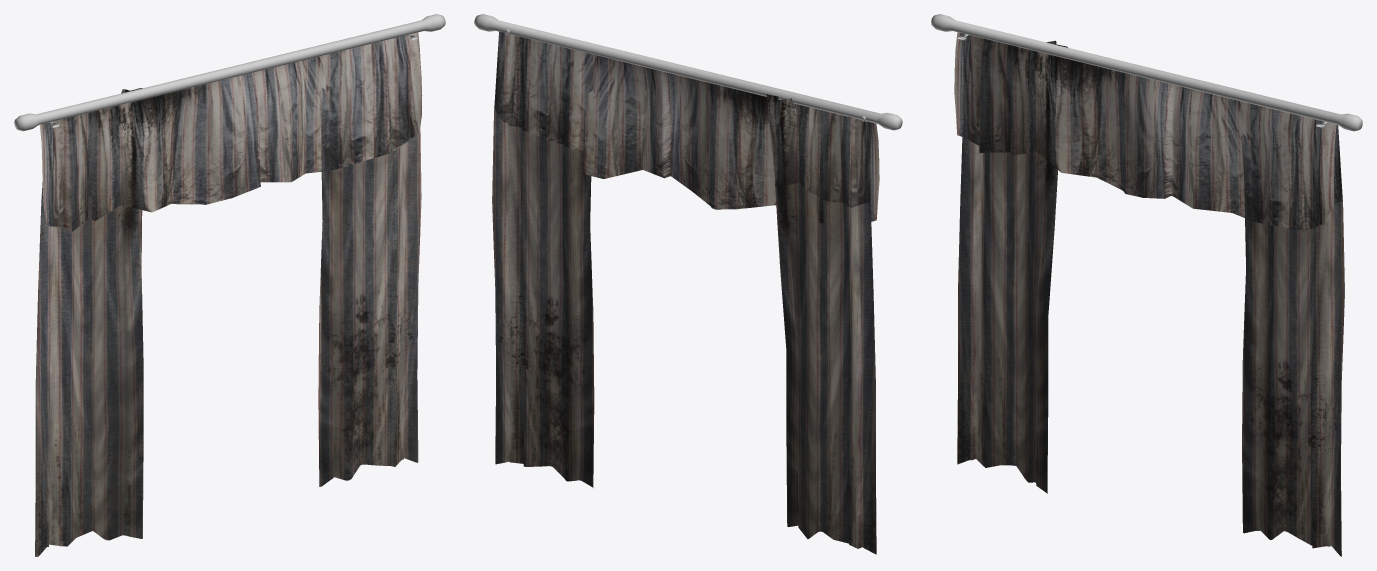
Rendered from Drape.fbx.
3 views of the same model, side by side, from view 1: azimuth 30°, elevation 25°; view 2: azimuth 150°, elevation 25°; view 3: azimuth 330°, elevation 25° (orthographic).
Visible parts, largest first — view 1: Cylinder_060; view 2: Cylinder_060; view 3: Cylinder_060.
Boxes of the visible parts, left/top/right/bottom form: Cylinder_060: left=14, top=14, right=445, bottom=556; Cylinder_060: left=474, top=14, right=902, bottom=554; Cylinder_060: left=931, top=14, right=1362, bottom=556.
Bounding box in the file's own units: 13.91 × 13.93 × 0.8964.
